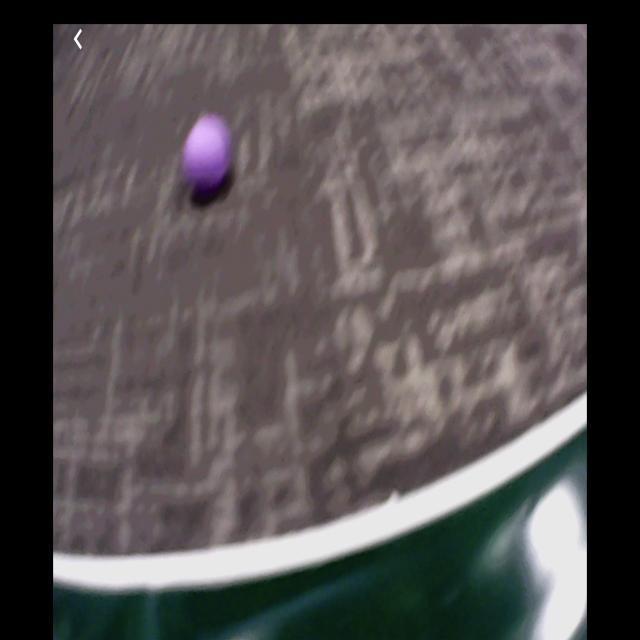ball: (186, 116, 230, 184)
